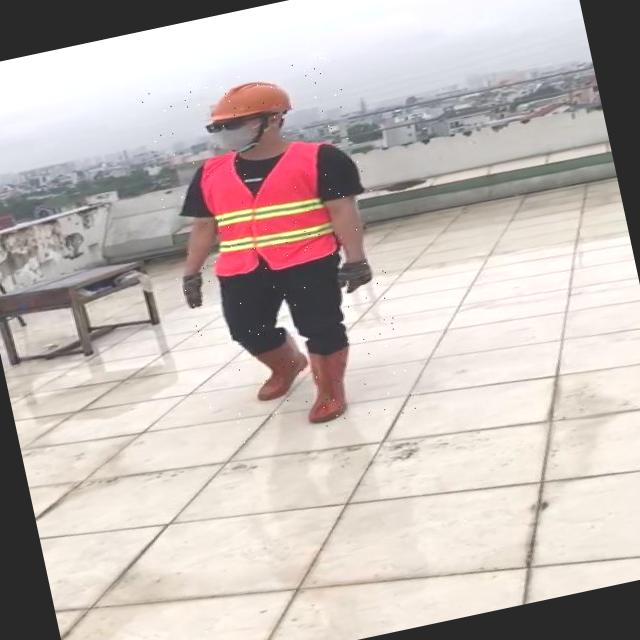boots: (293, 343, 367, 425), (242, 324, 312, 402)
gloves: (306, 233, 408, 315), (146, 258, 219, 326)
helmet: (194, 71, 294, 132)
vest: (192, 134, 348, 280)
